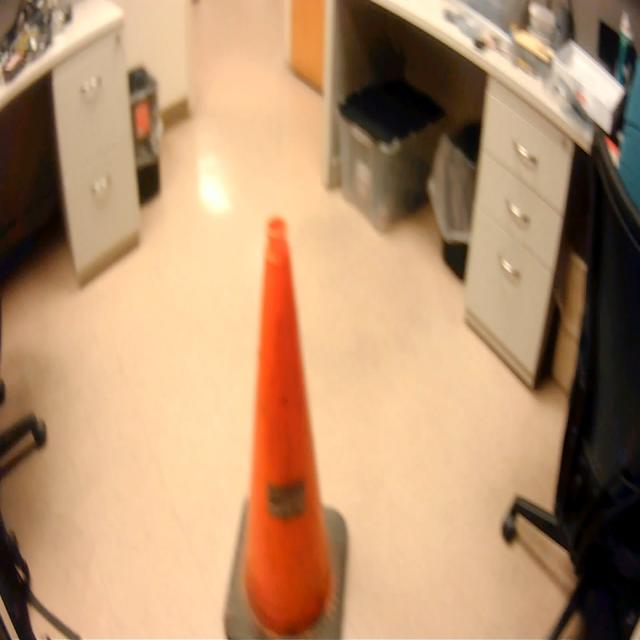traffic cone: (221, 207, 351, 640)
